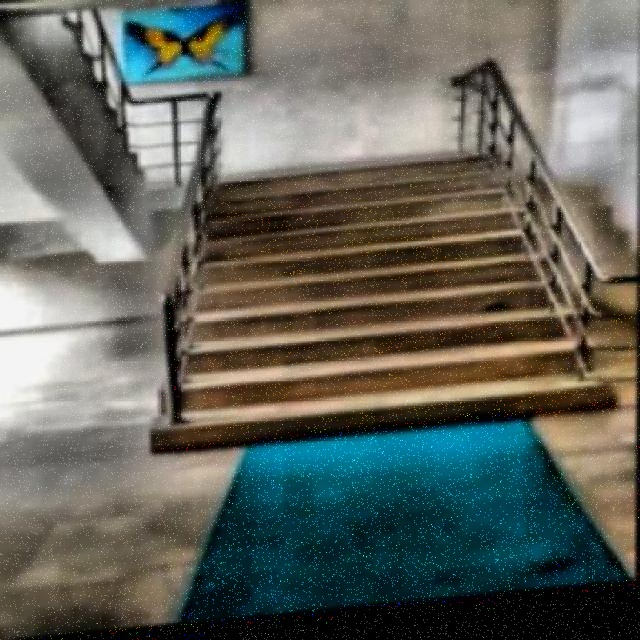stair: (152, 148, 612, 455)
